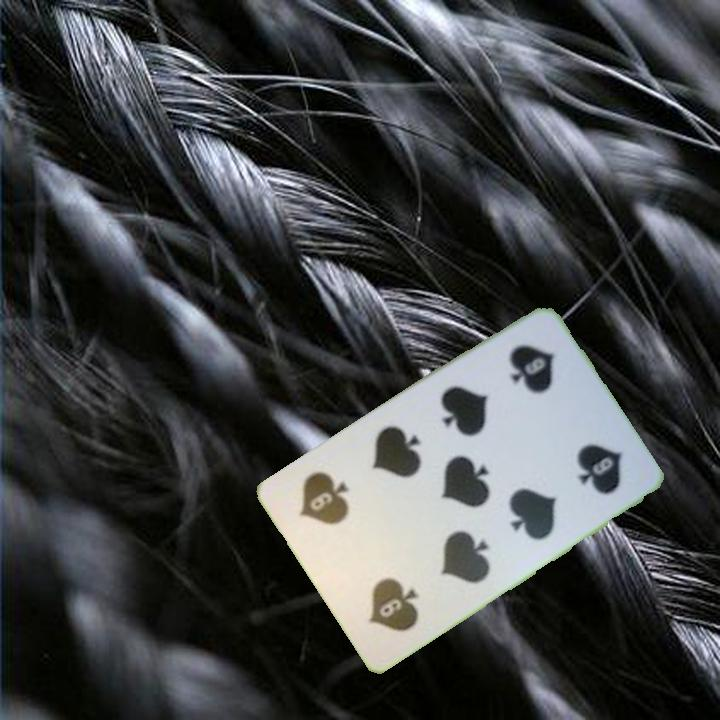s_9.png: (325, 526, 450, 654), (472, 319, 596, 447)
